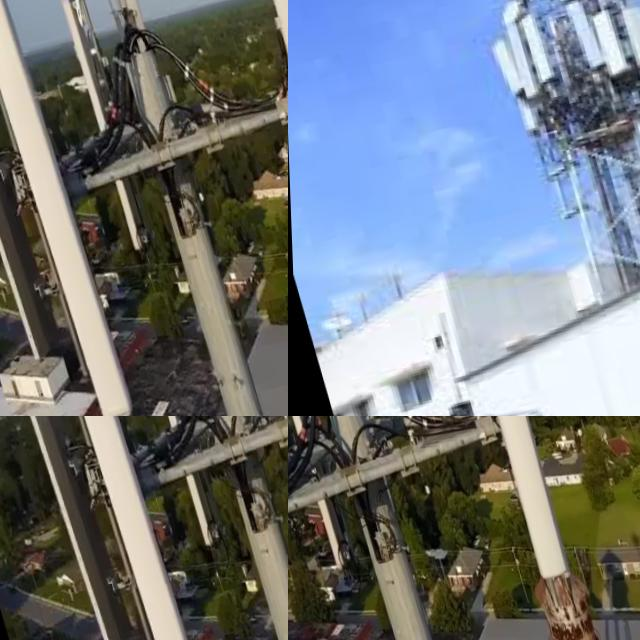GSM Antenna: (33, 416, 214, 640), (0, 416, 139, 640), (51, 0, 157, 262), (0, 119, 68, 376), (494, 416, 566, 580), (288, 416, 358, 582), (130, 416, 216, 549), (296, 416, 394, 502), (105, 0, 167, 100), (578, 8, 629, 85), (515, 9, 564, 86), (503, 20, 548, 99), (556, 0, 603, 74), (484, 37, 532, 100), (619, 0, 640, 73)
Microwave Antenna: (502, 0, 523, 22)
